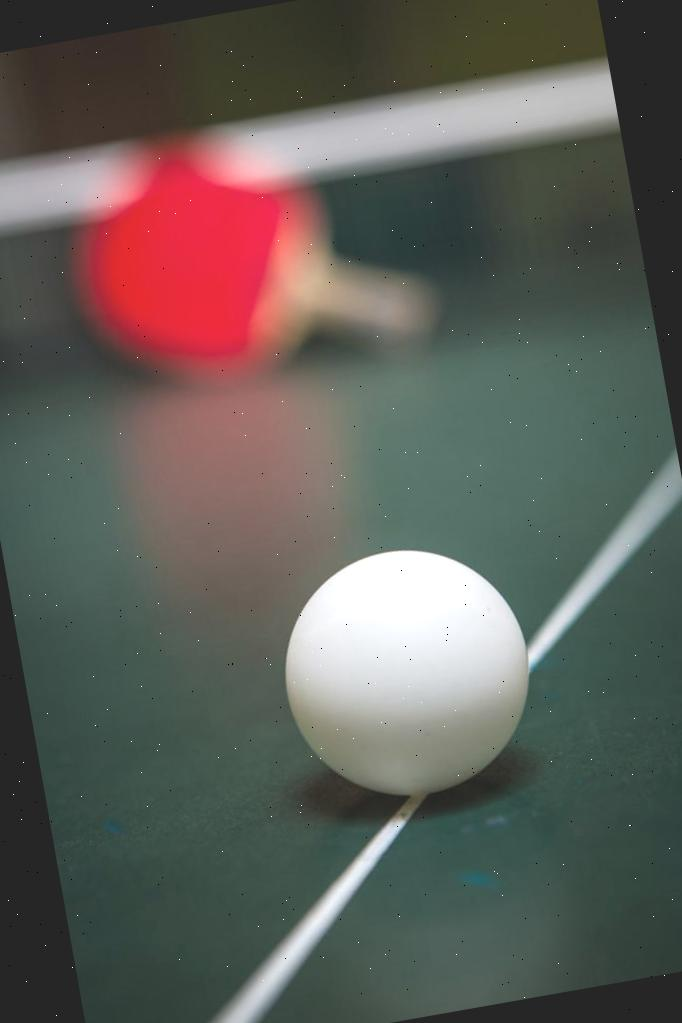ball: (260, 523, 552, 816)
